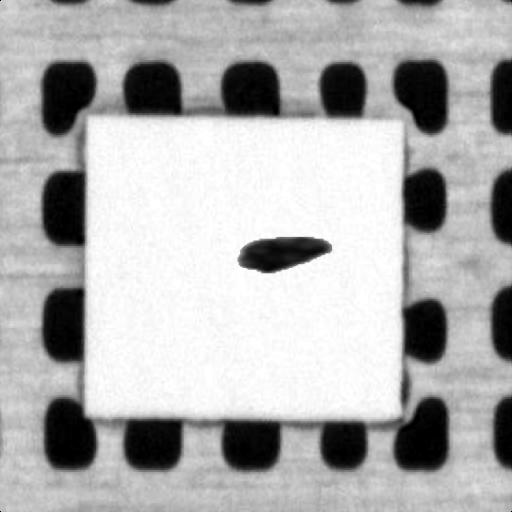DIE_INK: (306, 176, 448, 207)
